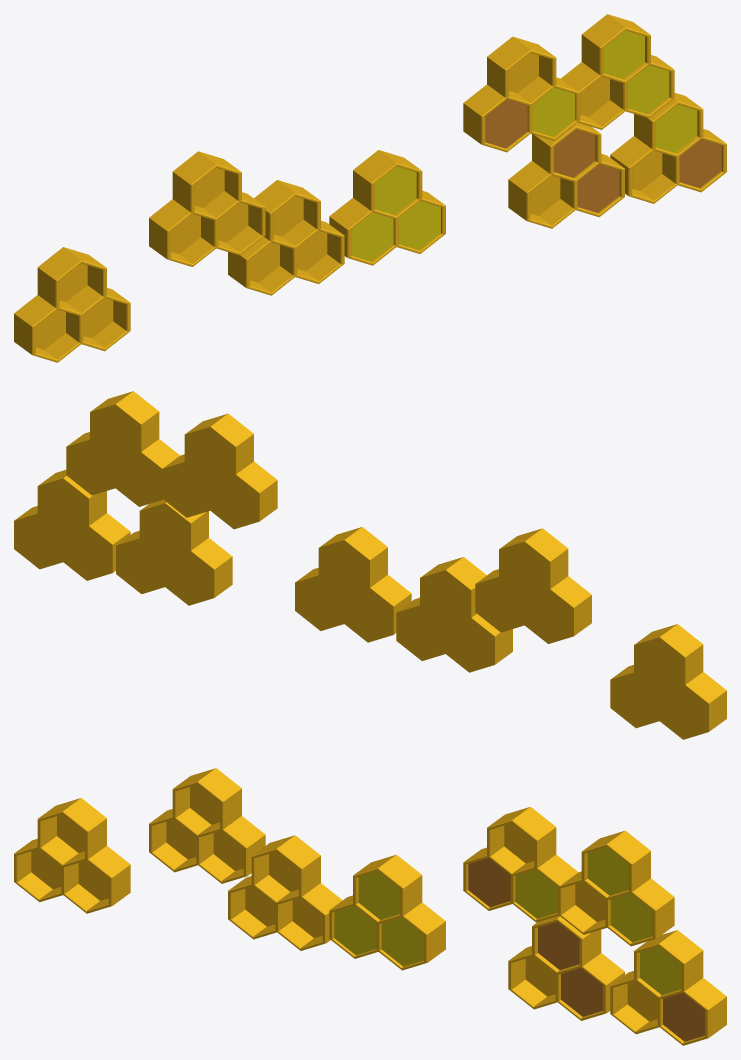
File: Honey4.fbx
3 renders of one model, top to bottom at view 1: azimuth 30°, elevation 25°; view 2: azimuth 150°, elevation 25°; view 3: azimuth 330°, elevation 25°, orthographic.
Parts seen in each view (by area): view 1: Cube.070, Cube.078, Cube.001, Cube.004, Cube.006, Cube.002, Cube.005, Cube.003; view 2: Cube.070, Cube.078, Cube.001, Cube.004, Cube.006, Cube.002, Cube.005, Cube.003; view 3: Cube.004, Cube.070, Cube.003, Cube.006, Cube.078, Cube.005, Cube.001, Cube.002.
Boxes of the visible parts, x1,y1,x2,y2 form: Cube.070: (14,247,130,362); Cube.078: (149,151,265,266); Cube.001: (463,36,579,152); Cube.004: (329,150,445,265); Cube.006: (561,14,674,129); Cube.002: (508,122,624,228); Cube.005: (228,180,344,295); Cube.003: (610,93,726,203); Cube.070: (610,624,726,739); Cube.078: (475,528,591,643); Cube.001: (161,413,277,529); Cube.004: (295,527,411,642); Cube.006: (66,391,179,506); Cube.002: (116,499,232,605); Cube.005: (396,557,512,672); Cube.003: (14,470,130,580); Cube.004: (329,854,445,970); Cube.070: (14,798,130,913); Cube.003: (610,930,726,1045); Cube.006: (558,830,674,946); Cube.078: (149,768,265,883); Cube.005: (228,835,342,950); Cube.001: (463,807,578,922); Cube.002: (508,915,624,1020).
Bounding box in the file's own units: 3623 × 985 × 167.
